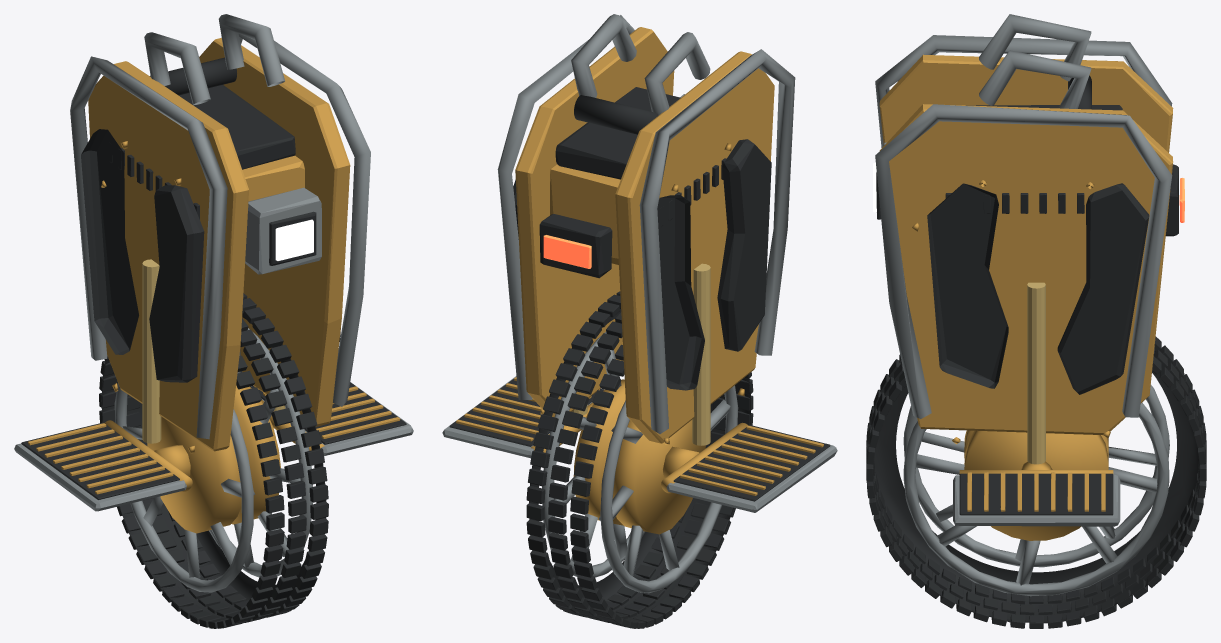
The model's file is Euc_tour.glb.
3 views of the same model, side by side, from view 1: azimuth 30°, elevation 25°; view 2: azimuth 150°, elevation 25°; view 3: azimuth 270°, elevation 25° (orthographic).
Visible parts, largest first — view 1: SideShell_-1, Tire_Staggered_Tread, SideShell_1, CrashRail_-1, PowerPad_Front_-1, PowerPad_Rear_-1, CrashRail_1, Motor_Cover_-1, Rim_Ring_-1, Top_Cushion, Pedal_Grip_-1, Headlamp_Housing (+19 smaller); view 2: SideShell_-1, Tire_Staggered_Tread, SideShell_1, CrashRail_-1, PowerPad_Front_-1, PowerPad_Rear_-1, CrashRail_1, Motor_Cover_-1, Rim_Ring_-1, Pedal_Grip_-1, Top_Cushion, Upper_Chassis (+18 smaller); view 3: SideShell_1, Tire_Staggered_Tread, CrashRail_1, PowerPad_Front_1, PowerPad_Rear_1, SideShell_-1, Tire_Carcass, Rim_Ring_1, Motor_Cover_1, Pedal_Grip_1, CrashRail_-1, Wheel_Pivot_Rim_Spoke_Set (+9 smaller).
Part boxes in pixels (<box>): SideShell_-1: <box>88,61,248,451</box>; Tire_Staggered_Tread: <box>99,293,328,628</box>; SideShell_1: <box>199,38,350,426</box>; CrashRail_-1: <box>70,56,227,439</box>; PowerPad_Front_-1: <box>149,185,204,382</box>; PowerPad_Rear_-1: <box>81,129,138,354</box>; CrashRail_1: <box>238,34,370,406</box>; Motor_Cover_-1: <box>147,416,241,533</box>; Rim_Ring_-1: <box>114,383,253,592</box>; Top_Cushion: <box>179,85,295,169</box>; Pedal_Grip_-1: <box>21,422,179,499</box>; Headlamp_Housing: <box>245,187,321,274</box>; SideShell_-1: <box>615,51,774,443</box>; Tire_Staggered_Tread: <box>526,291,753,628</box>; SideShell_1: <box>515,27,674,417</box>; CrashRail_-1: <box>639,49,795,433</box>; PowerPad_Front_-1: <box>717,139,771,351</box>; PowerPad_Rear_-1: <box>657,195,704,390</box>; CrashRail_1: <box>497,15,634,399</box>; Motor_Cover_-1: <box>612,420,705,534</box>; Rim_Ring_-1: <box>600,385,738,593</box>; Pedal_Grip_-1: <box>673,425,830,501</box>; Top_Cushion: <box>555,87,680,179</box>; Upper_Chassis: <box>550,164,620,264</box>; SideShell_1: <box>879,104,1173,434</box>; Tire_Staggered_Tread: <box>866,336,1206,628</box>; CrashRail_1: <box>875,104,1172,418</box>; PowerPad_Front_1: <box>927,183,1008,388</box>; PowerPad_Rear_1: <box>1057,183,1149,394</box>; SideShell_-1: <box>879,54,1173,152</box>; Tire_Carcass: <box>874,371,1198,623</box>; Rim_Ring_1: <box>903,402,1169,596</box>; Motor_Cover_1: <box>964,430,1108,540</box>; Pedal_Grip_1: <box>959,473,1113,515</box>; CrashRail_-1: <box>875,35,1172,147</box>; Wheel_Pivot_Rim_Spoke_Set: <box>916,432,1157,585</box>.
Bounding box in the file's own units: 0.5477 × 0.959 × 0.5089.
